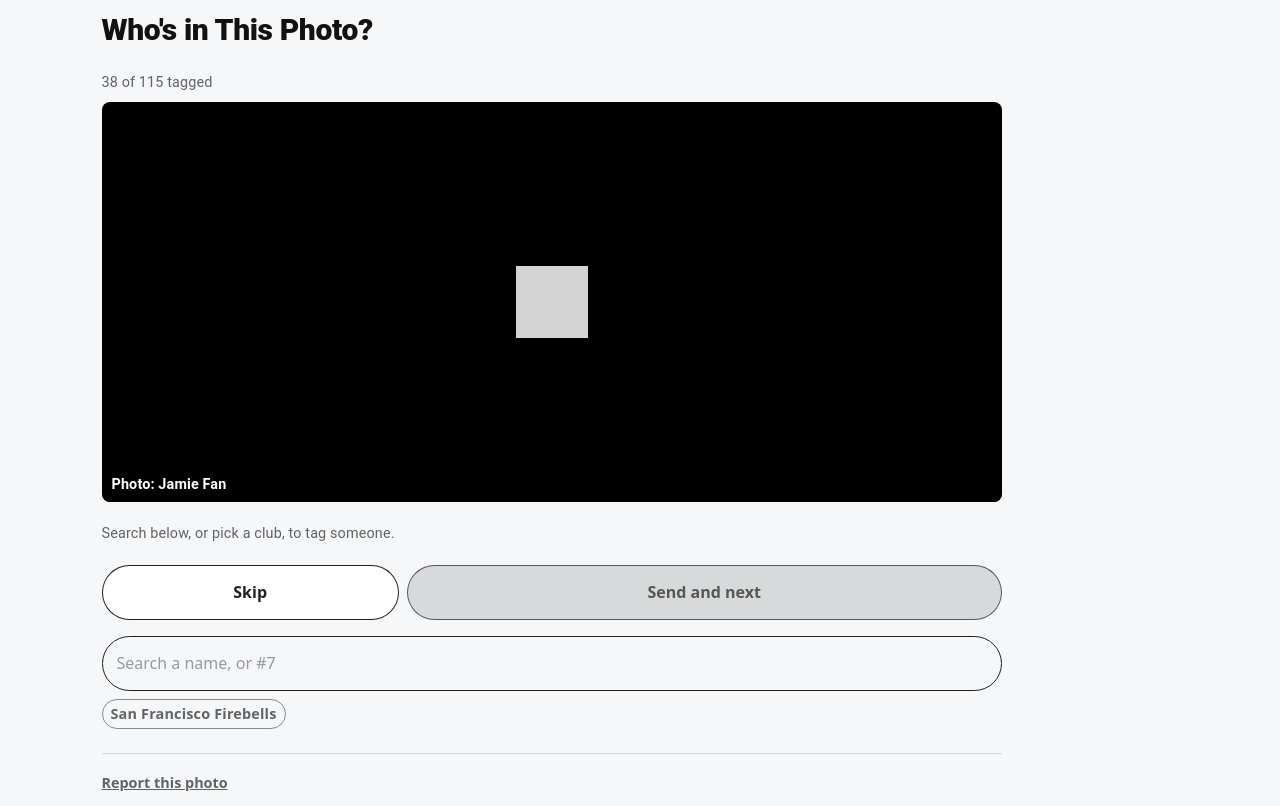
Test: PhotoTagPage › stays on the photo, keeps the picks and says so when the database refuses
Expected: the text "38 of 115 tagged" is shown, [102, 74, 212, 91]
Type "Diana" into the search field named "Search by name or number" at (552, 663), box [102, 636, 1002, 691]
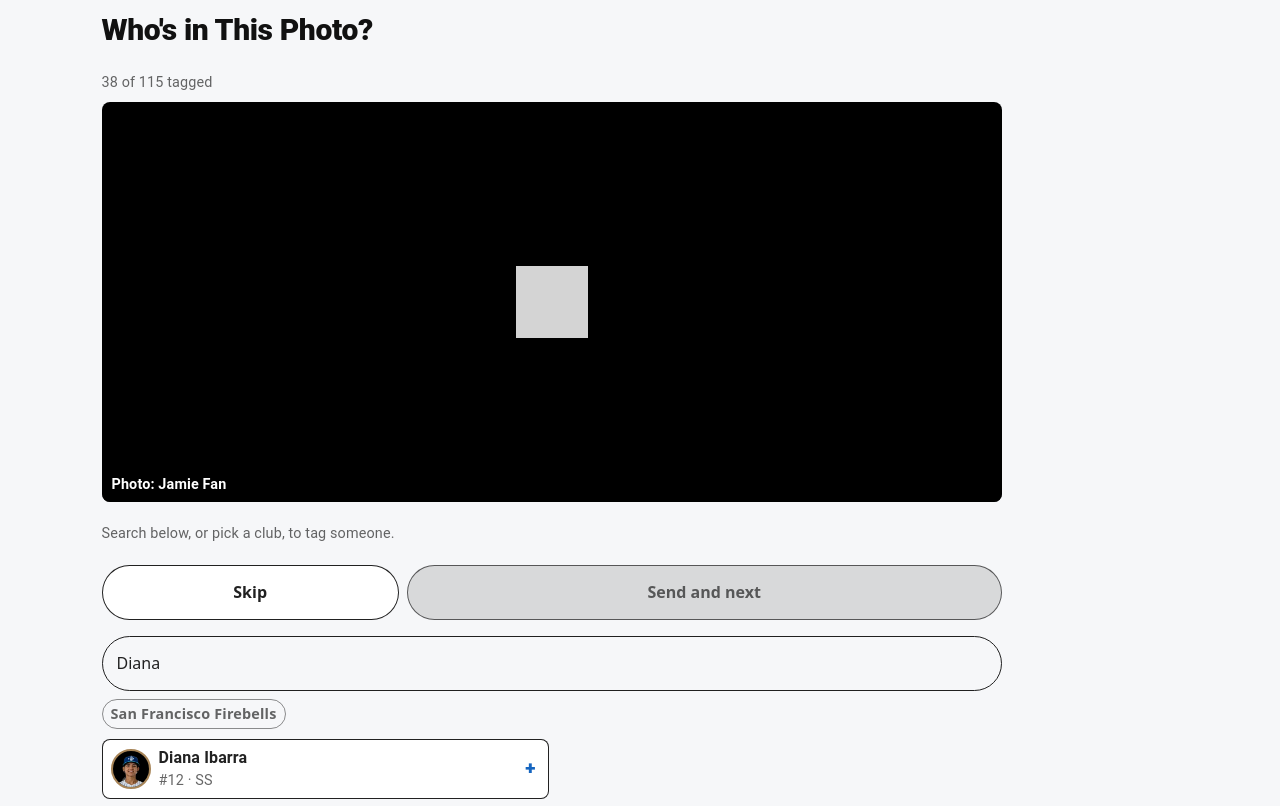
Click the text "Diana Ibarra" at (203, 757), box [158, 748, 247, 767]
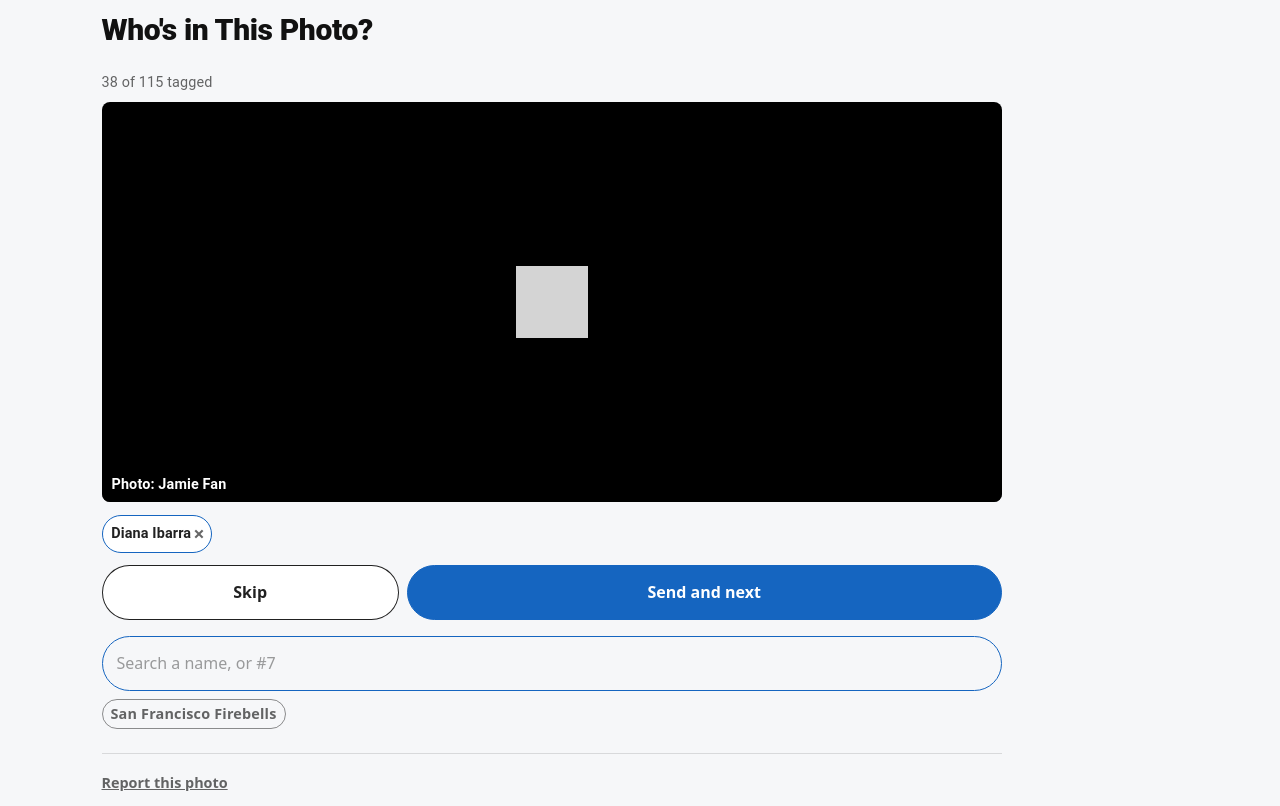
Click the button "Send and next" at (704, 592), box [407, 565, 1002, 620]
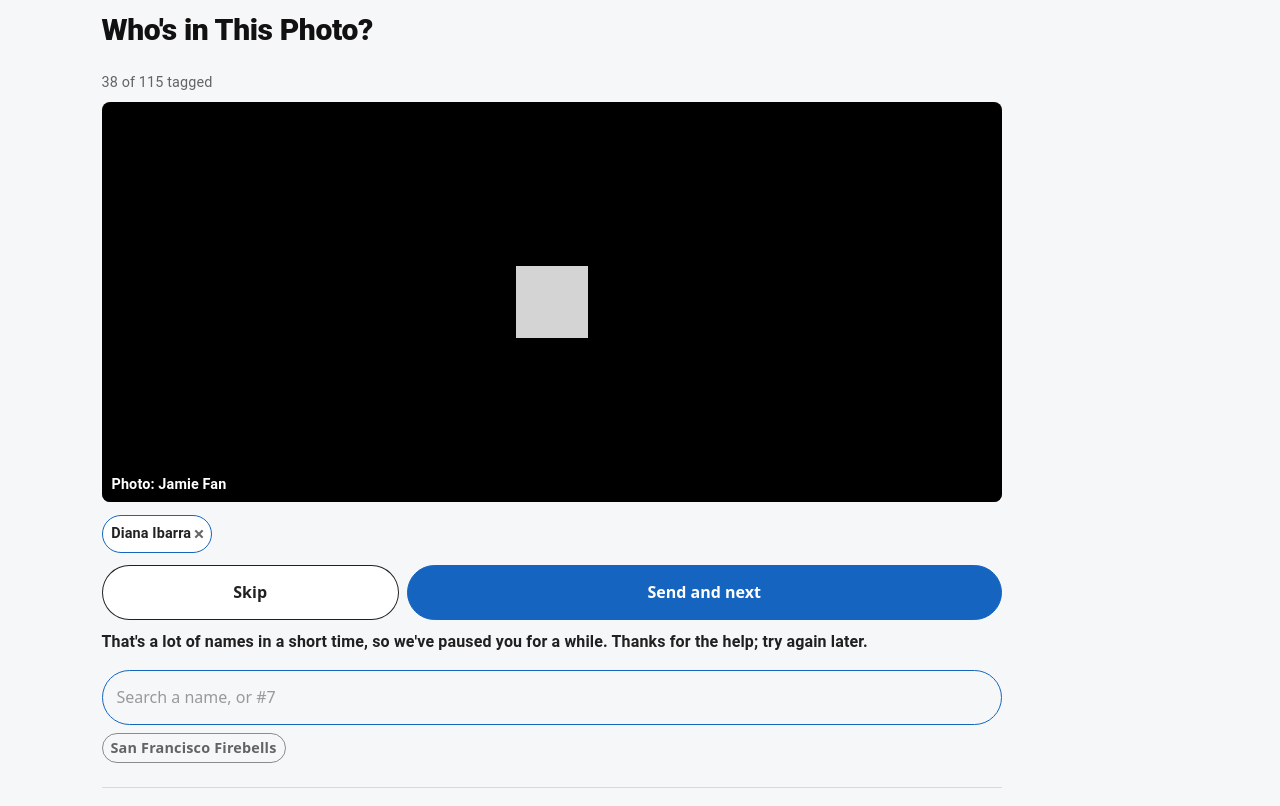
Expected: the button with aria-label "Remove Diana Ibarra" is shown, [102, 515, 212, 553]
Expected: the text "paused you for a while" is shown, [102, 632, 868, 651]
